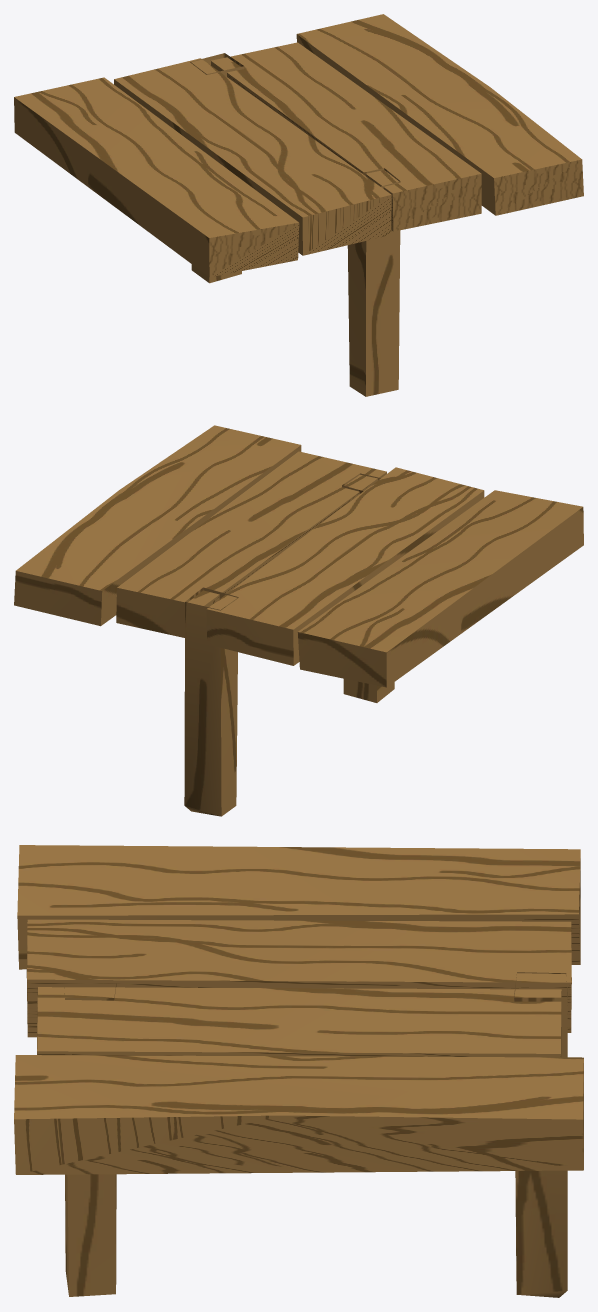
File: bridge.obj
3 renders of one model, top to bottom at view 1: azimuth 30°, elevation 25°; view 2: azimuth 150°, elevation 25°; view 3: azimuth 270°, elevation 25°, orthographic. The views are drawn at different scales.
Visible parts, largest first — view 1: bridge_Cube.054; view 2: bridge_Cube.054; view 3: bridge_Cube.054.
Part boxes in pixels (x1=…): bridge_Cube.054: x1=14, y1=14, x2=583, y2=396; bridge_Cube.054: x1=14, y1=425, x2=583, y2=816; bridge_Cube.054: x1=14, y1=845, x2=583, y2=1297.
Size of the model in its own units: 1.89 by 1.05 by 1.74.
1 material, 1 textured.
